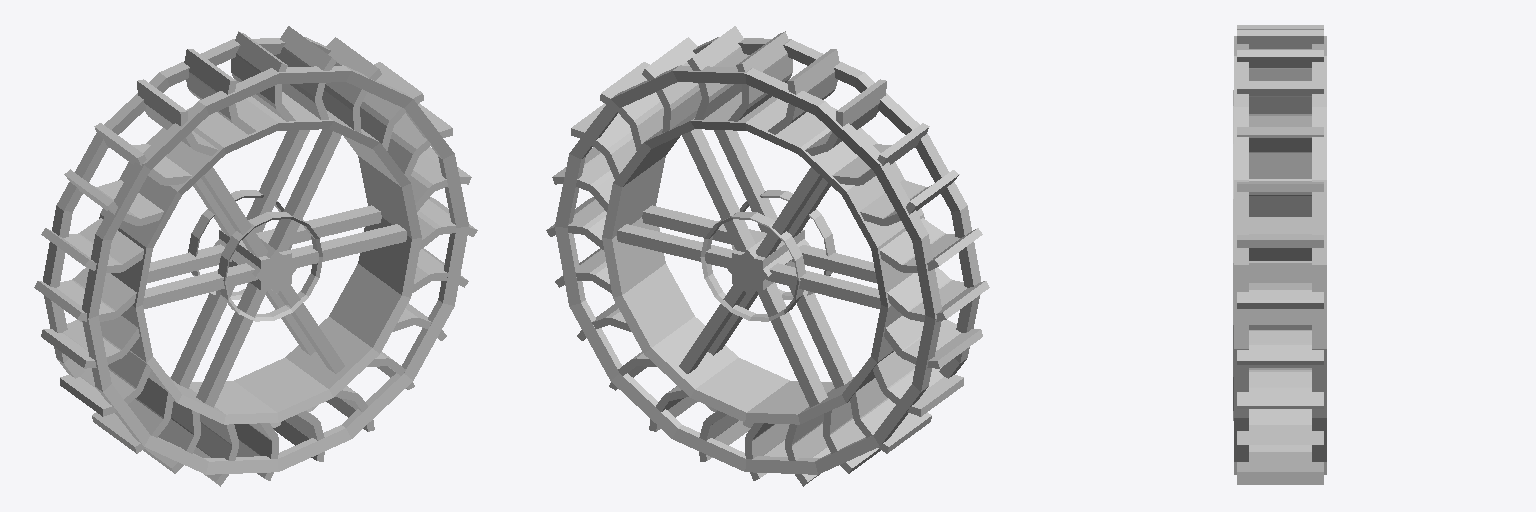
Rendered from water_wheel.obj.
3 renders of one model, left to right at view 1: azimuth 30°, elevation 25°; view 2: azimuth 150°, elevation 25°; view 3: azimuth 270°, elevation 25°, orthographic.
Visible parts, largest first — view 1: Cube; view 2: Cube; view 3: Cube.
Part boxes in pixels (left/top/right/bottom): Cube: left=34, top=26, right=477, bottom=486; Cube: left=546, top=26, right=989, bottom=486; Cube: left=1233, top=25, right=1326, bottom=484.
Bounding box in the file's own units: 5.88 × 5.82 × 1.18.